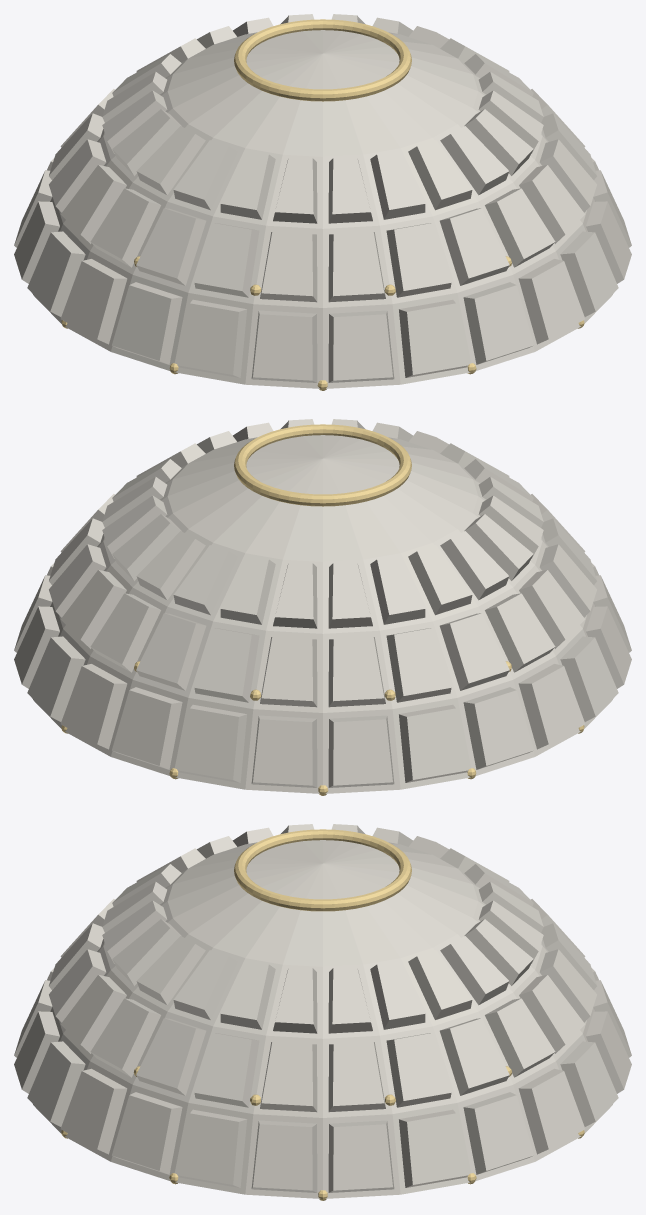
File: coffered_dome.glb
The picture shows the model from 3 angles, top to bottom: view 1: azimuth 30°, elevation 25°; view 2: azimuth 150°, elevation 25°; view 3: azimuth 270°, elevation 25°; orthographic projection.
Parts seen in each view (by area): view 1: coffered_dome; view 2: coffered_dome; view 3: coffered_dome.
Boxes of the visible parts, bbox=[...] form: coffered_dome: bbox=[14, 14, 631, 390]; coffered_dome: bbox=[14, 419, 631, 795]; coffered_dome: bbox=[14, 824, 631, 1200].
Bounding box in the file's own units: 11.93 × 4.52 × 11.93.
